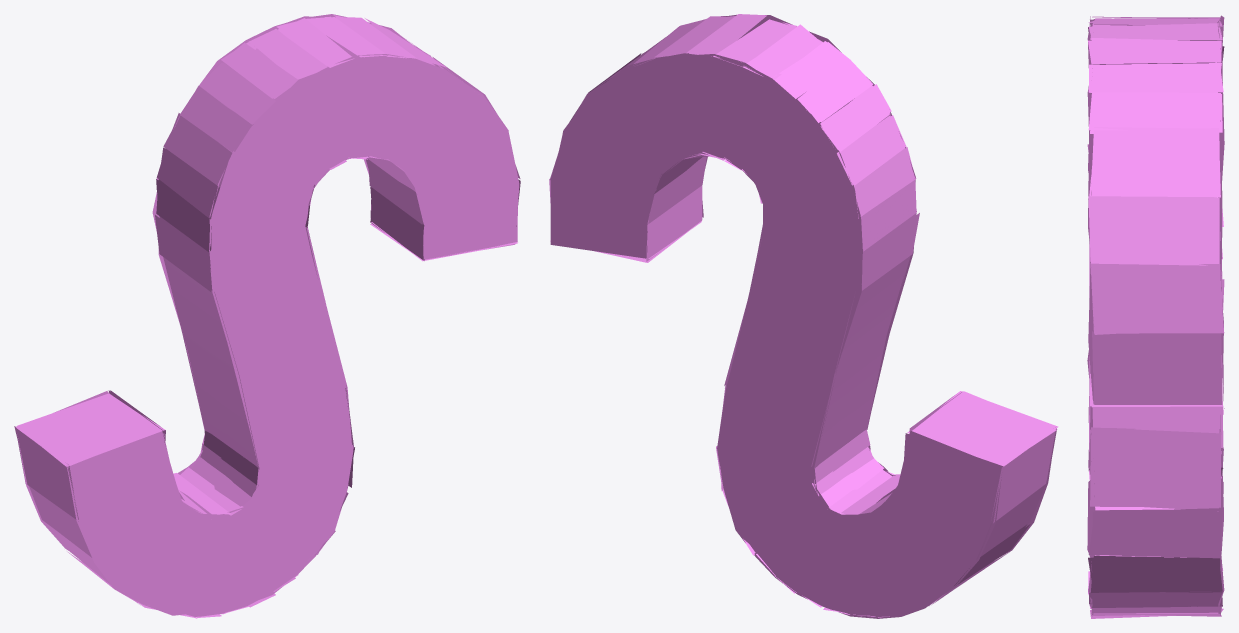
File: original_32.obj
3 views of the same model, side by side, from view 1: azimuth 30°, elevation 25°; view 2: azimuth 150°, elevation 25°; view 3: azimuth 270°, elevation 25° (orthographic). The views are drawn at different scales.
Visible parts, largest first — view 1: group_13/ID215#ID215; view 2: group_13/ID215#ID215; view 3: group_13/ID215#ID215.
Part boxes in pixels (<box>): group_13/ID215#ID215: <box>14,14,520,618</box>; group_13/ID215#ID215: <box>549,14,1058,618</box>; group_13/ID215#ID215: <box>1087,15,1224,618</box>.
Bounding box in the file's own units: 0.0289 × 0.0321 × 0.00624.
